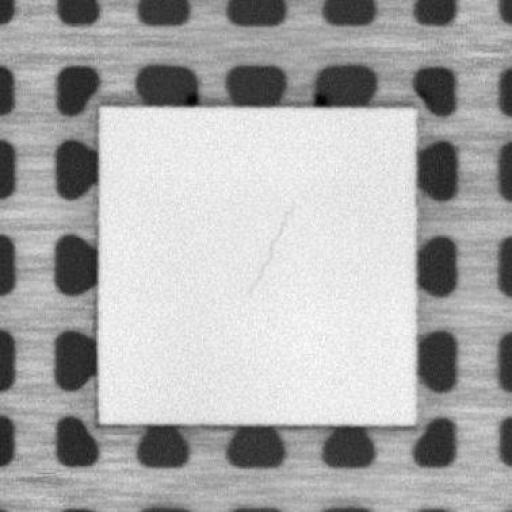DIE_CRACK: (246, 210, 290, 294)
